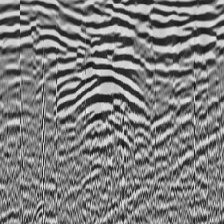cavities: (1, 0, 224, 131)
